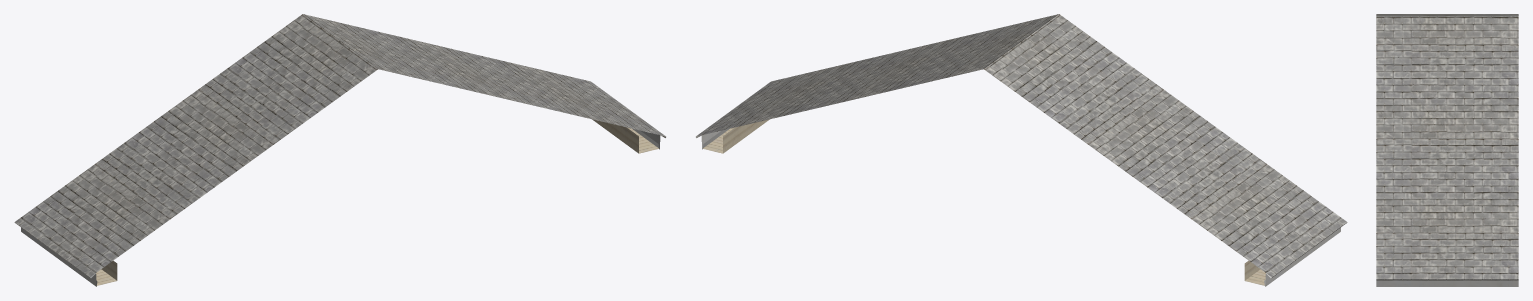
File: RoofLow_8x_COL.FBX
3 views of the same model, side by side, from view 1: azimuth 30°, elevation 25°; view 2: azimuth 150°, elevation 25°; view 3: azimuth 270°, elevation 25° (orthographic). The views are drawn at different scales.
Parts seen in each view (by area): view 1: RoofLow_8x_COL; view 2: RoofLow_8x_COL; view 3: RoofLow_8x_COL.
Part boxes in pixels (x1,y1,x2,y2): RoofLow_8x_COL: [14, 14, 665, 286]; RoofLow_8x_COL: [696, 14, 1347, 286]; RoofLow_8x_COL: [1376, 14, 1518, 286].
Size of the model in its own units: 884 by 218 by 201.
